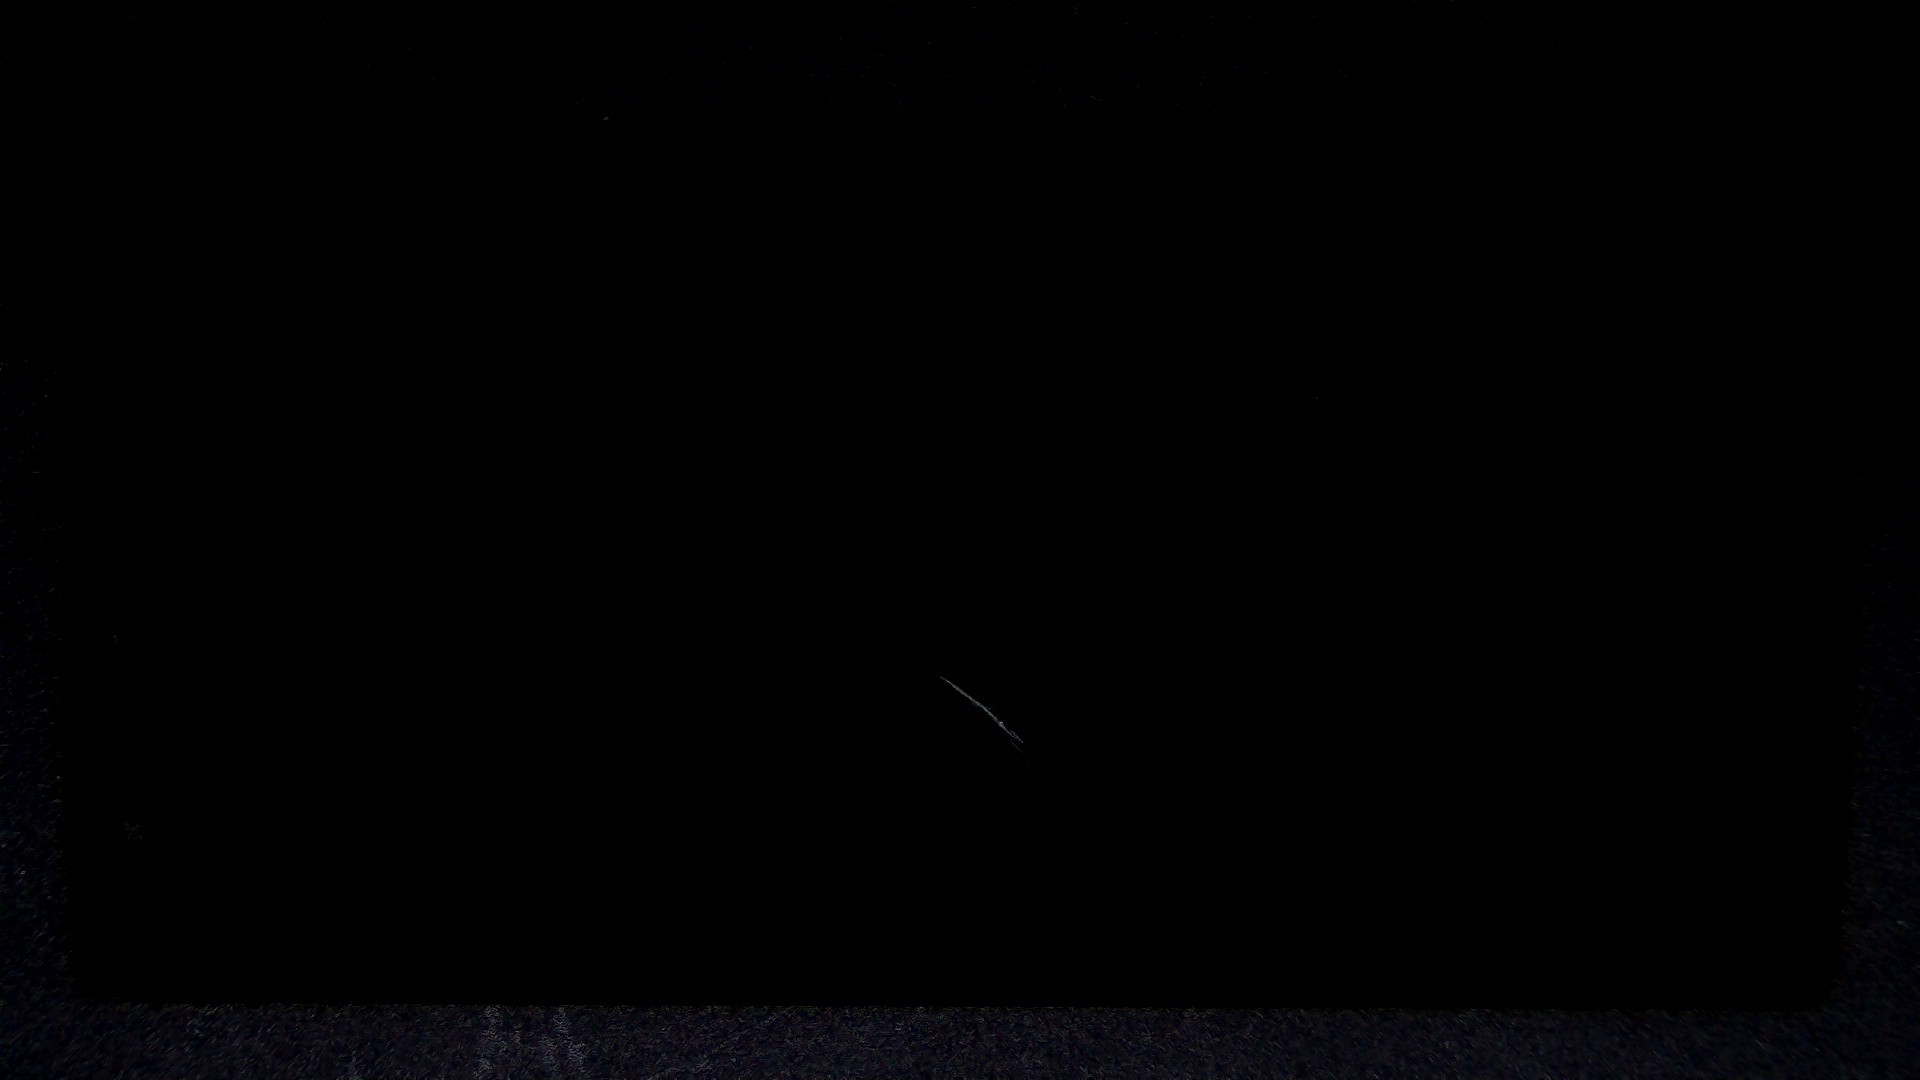oil: (467, 335, 1400, 1007)
